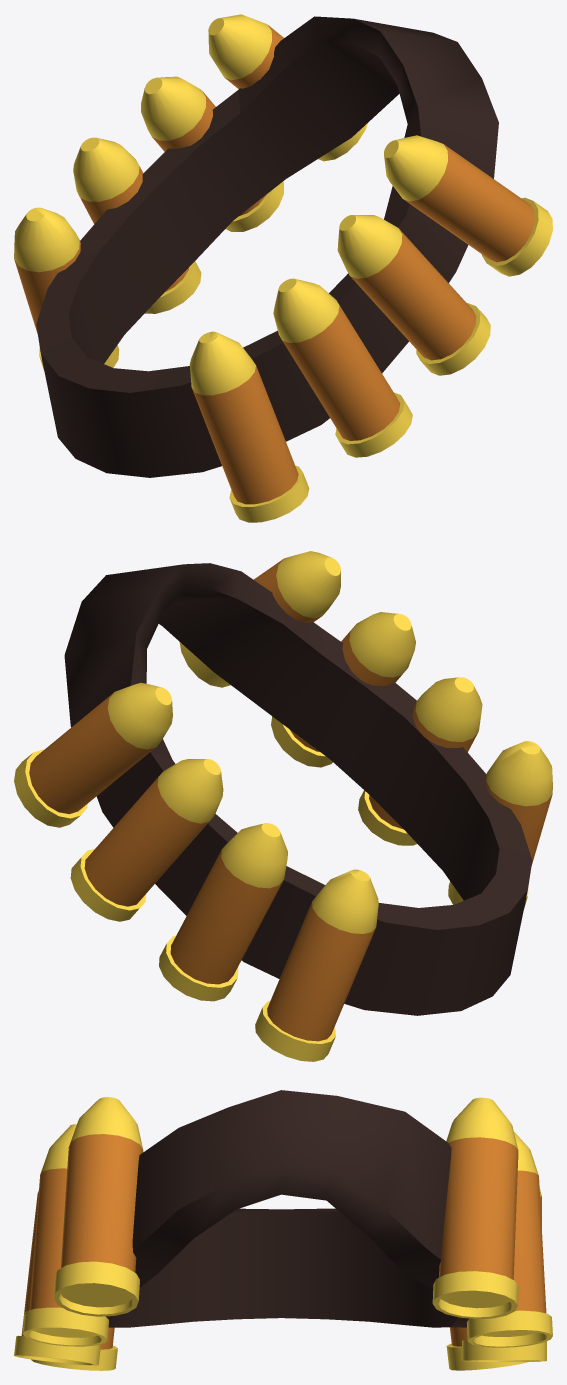
Rendered from Amunition.fbx.
The picture shows the model from 3 angles, top to bottom: view 1: azimuth 30°, elevation 25°; view 2: azimuth 150°, elevation 25°; view 3: azimuth 270°, elevation 25°; orthographic projection. The views are drawn at different scales.
Visible parts, largest first — view 1: Cylinder.007; view 2: Cylinder.007; view 3: Cylinder.007.
Part boxes in pixels (x1,y1,x2,y2): Cylinder.007: (14, 14, 552, 522); Cylinder.007: (14, 551, 552, 1061); Cylinder.007: (14, 1090, 552, 1370).
Bounding box in the file's own units: 180 × 154 × 190.
